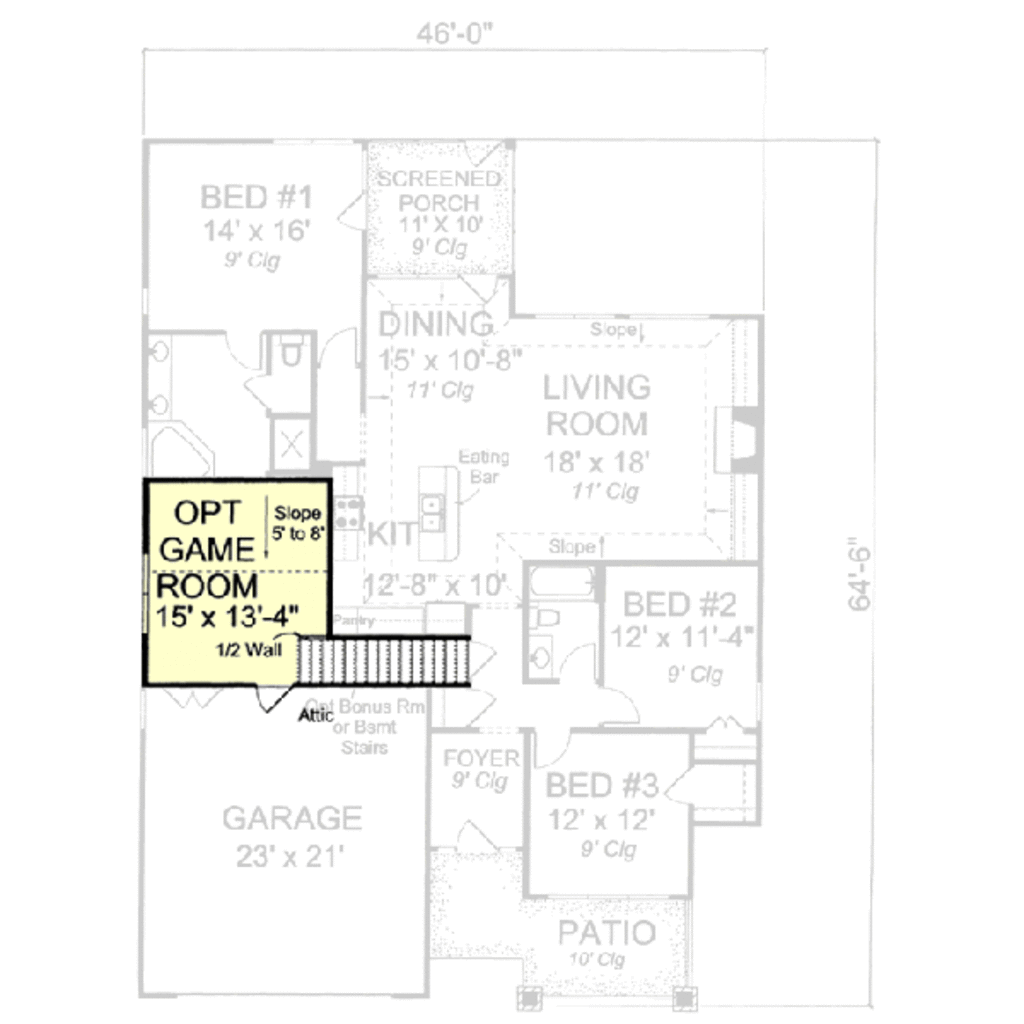door: (246, 676, 309, 724)
stairs: (282, 632, 477, 689)
window: (134, 546, 161, 632)
